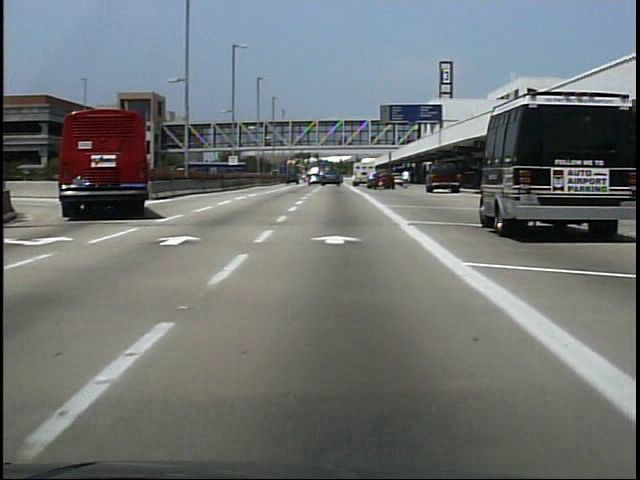person: (398, 169, 411, 191)
